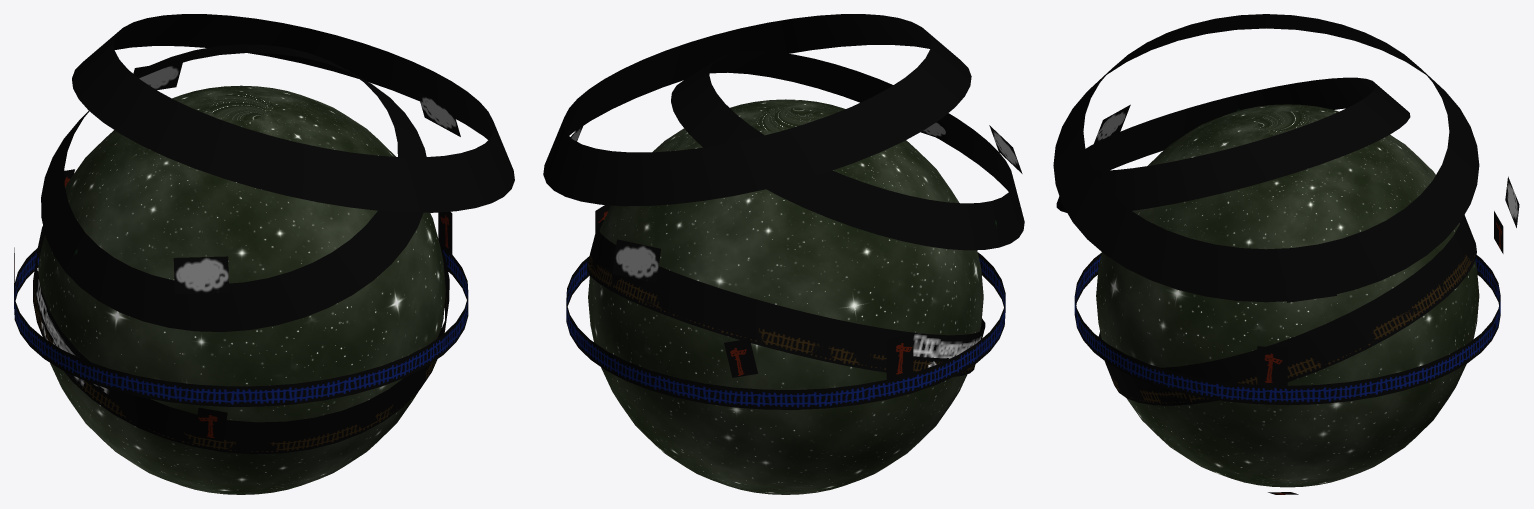
Rendered from testFromWebsite.glb.
The picture shows the model from 3 angles, left to right: view 1: azimuth 30°, elevation 25°; view 2: azimuth 150°, elevation 25°; view 3: azimuth 270°, elevation 25°; orthographic projection. The views are drawn at different scales.
Visible parts, largest first — view 1: n0b8, n7b6, n1b0, n5b4, n3b2, n6b7, n8b5; view 2: n0b8, n7b6, n5b4, n1b0, n3b2, n6b7, n8b5; view 3: n0b8, n7b6, n1b0, n5b4, n3b2, n8b5, n6b7.
Part boxes in pixels (x1,y1,x2,y2): n0b8: [38, 85, 445, 494]; n7b6: [41, 14, 514, 331]; n1b0: [14, 244, 468, 406]; n5b4: [33, 226, 449, 451]; n3b2: [33, 233, 446, 454]; n6b7: [133, 62, 460, 293]; n8b5: [14, 169, 452, 441]; n0b8: [588, 99, 983, 494]; n7b6: [543, 14, 1024, 250]; n5b4: [587, 220, 985, 371]; n1b0: [566, 252, 1005, 409]; n3b2: [586, 252, 975, 376]; n6b7: [570, 120, 1022, 283]; n8b5: [595, 205, 913, 379]; n0b8: [1096, 104, 1479, 487]; n7b6: [1053, 14, 1479, 302]; n1b0: [1074, 252, 1500, 405]; n5b4: [1098, 215, 1475, 402]; n3b2: [1110, 241, 1476, 405]; n8b5: [1257, 211, 1503, 494]; n6b7: [1094, 104, 1519, 302].
Size of the model in its own units: 20.07 by 19.18 by 20.15.
Materials: 9 (9 with a texture image).
